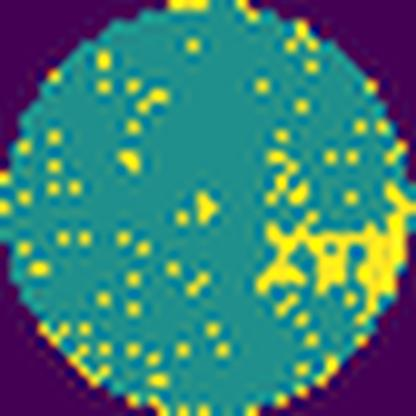Edge-Loc: (256, 180, 416, 315)
